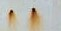Corrosion: (27, 7, 42, 31), (7, 9, 16, 28)
